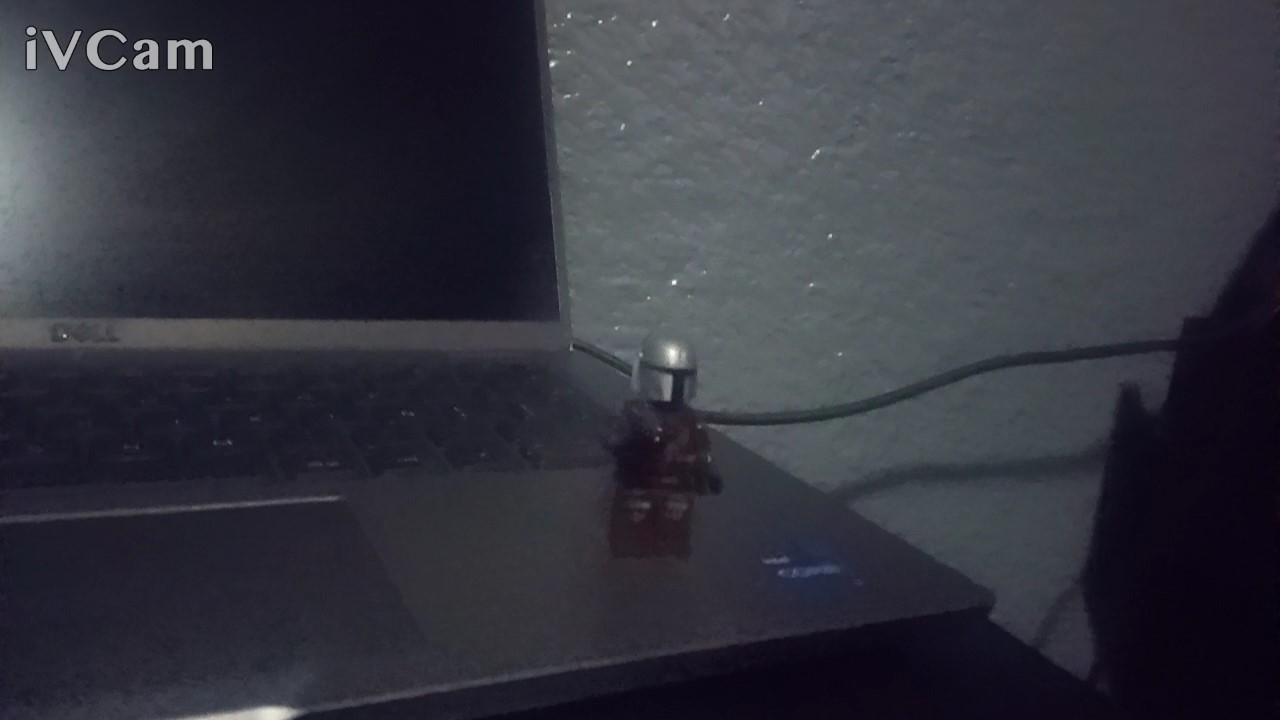mandalorian: (603, 331, 737, 593)
